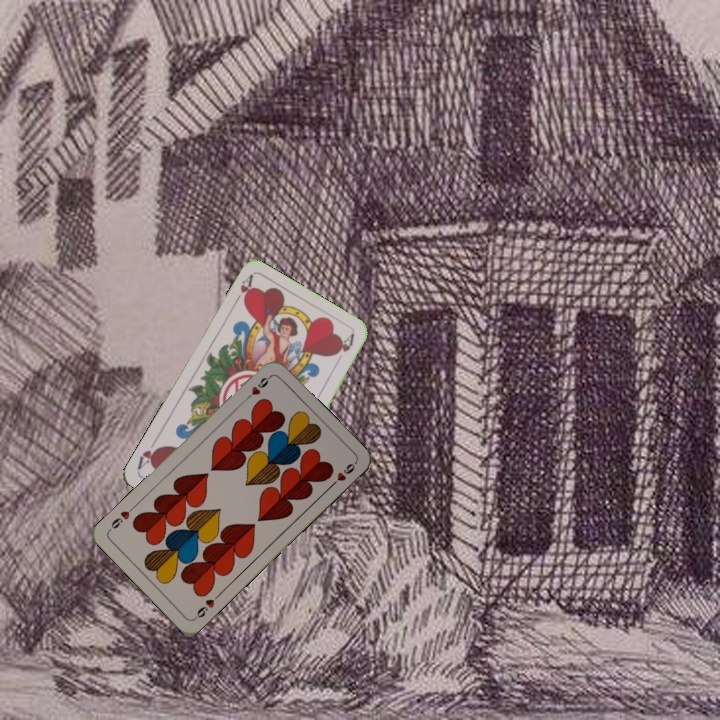H9: (190, 590, 222, 622), (241, 372, 274, 403)
HA: (229, 272, 256, 309)
